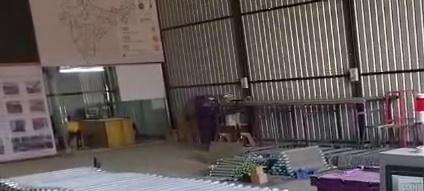box: (311, 168, 380, 190)
